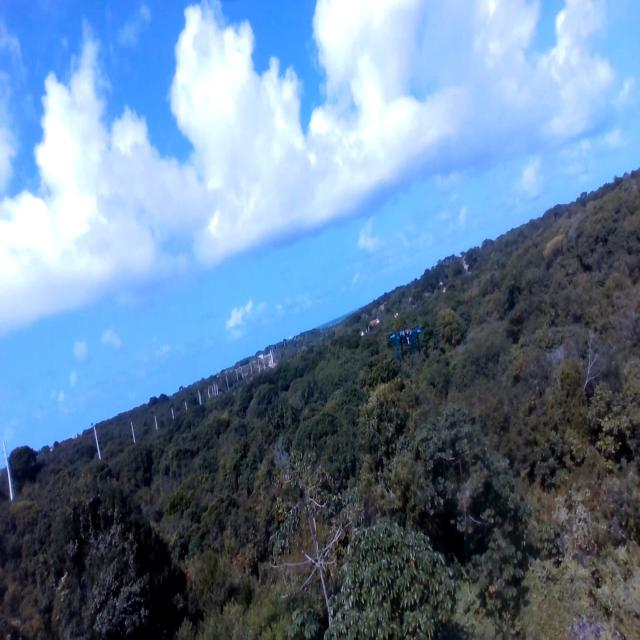-uav-: (386, 312, 423, 368)
